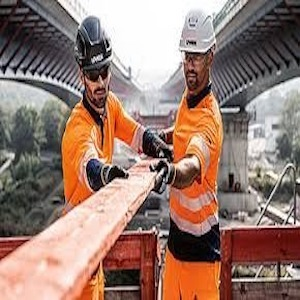safety: (77, 18, 113, 69), (179, 7, 217, 55)
